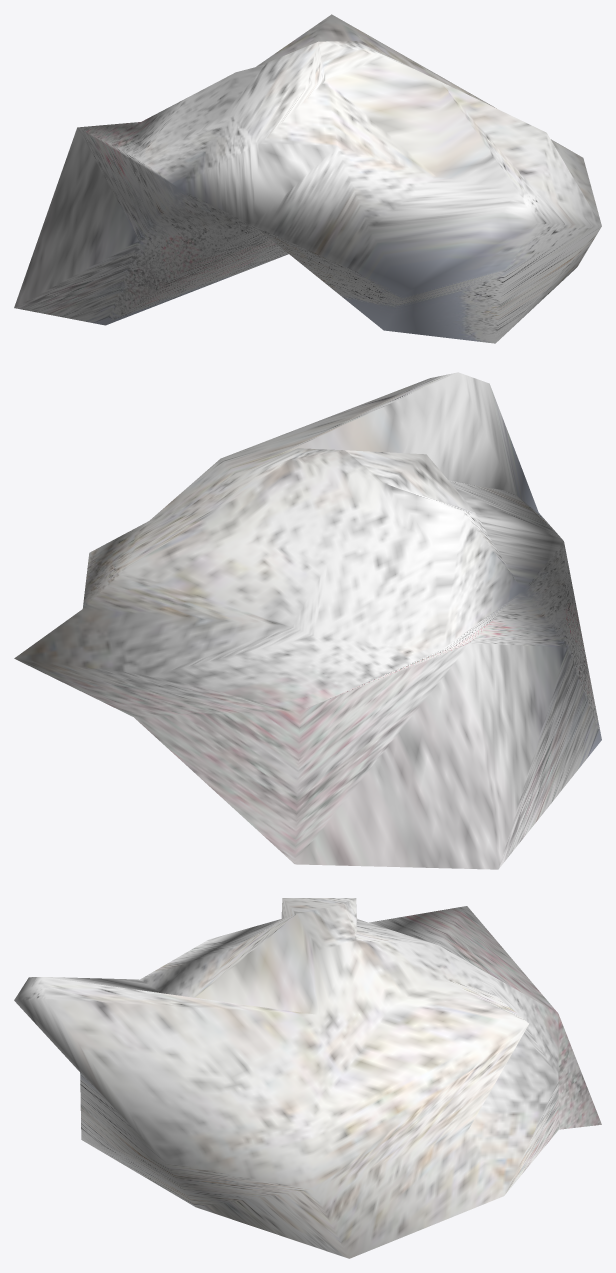
The model's file is SmallIce_I.fbx.
The picture shows the model from 3 angles, top to bottom: view 1: azimuth 30°, elevation 25°; view 2: azimuth 150°, elevation 25°; view 3: azimuth 270°, elevation 25°; orthographic projection. The views are drawn at different scales.
Visible parts, largest first — view 1: pCone1; view 2: pCone1; view 3: pCone1.
Boxes of the visible parts, x1,y1,x2,y2 form: pCone1: (14,14,601,343); pCone1: (14,372,601,869); pCone1: (14,898,601,1258).
Size of the model in its own units: 6.18 by 3.38 by 6.71.
Materials: 1 (1 with a texture image).
